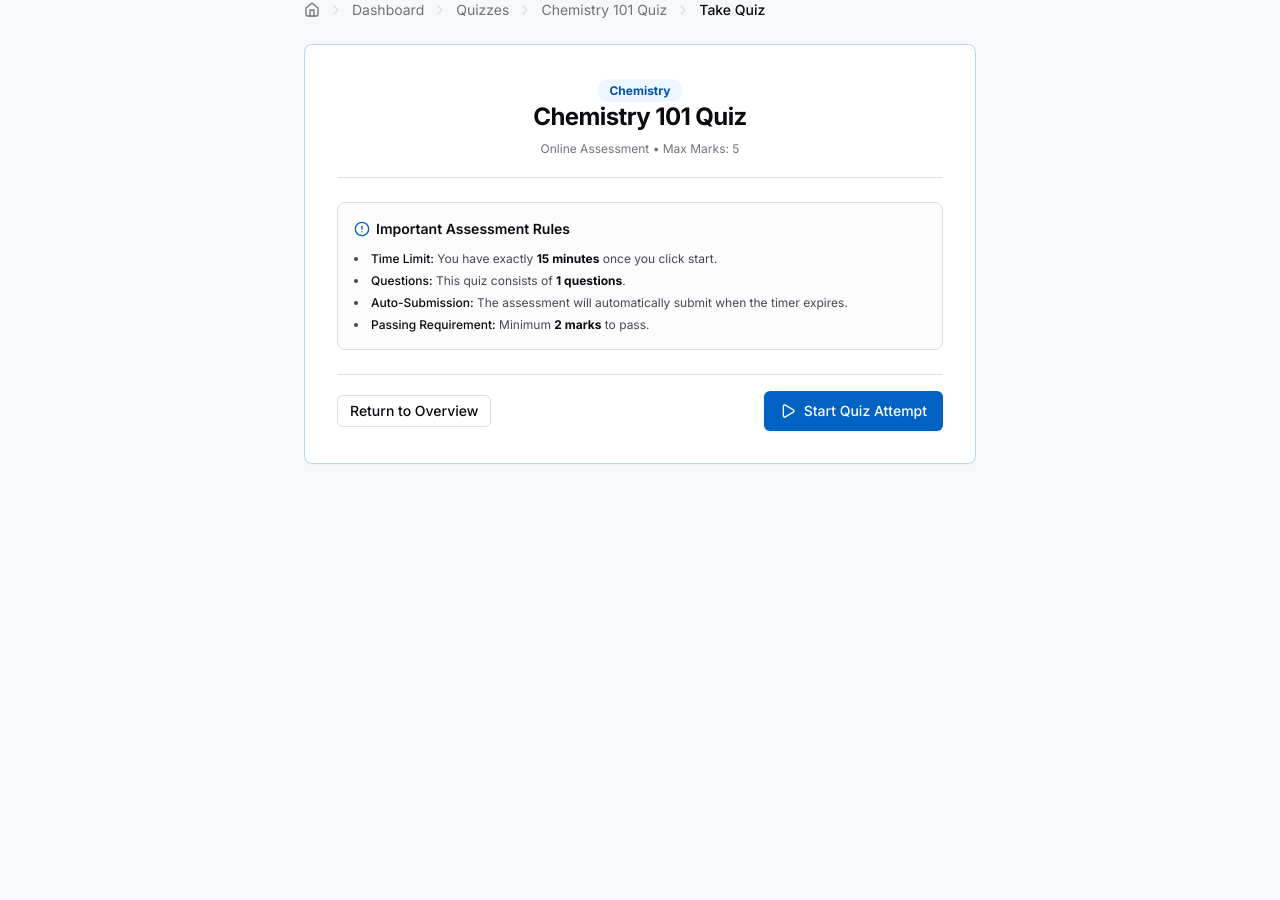
Scenario: TakeQuizPage › should flow through start attempt, answering question, and submitting quiz
This screenshot has width=1280, height=900.
Expected: the heading "Chemistry 101 Quiz" is shown, [533,102,747,131]
Click the button "Start Quiz Attempt" at {"x": 853, "y": 411}, box [764,391,943,431]
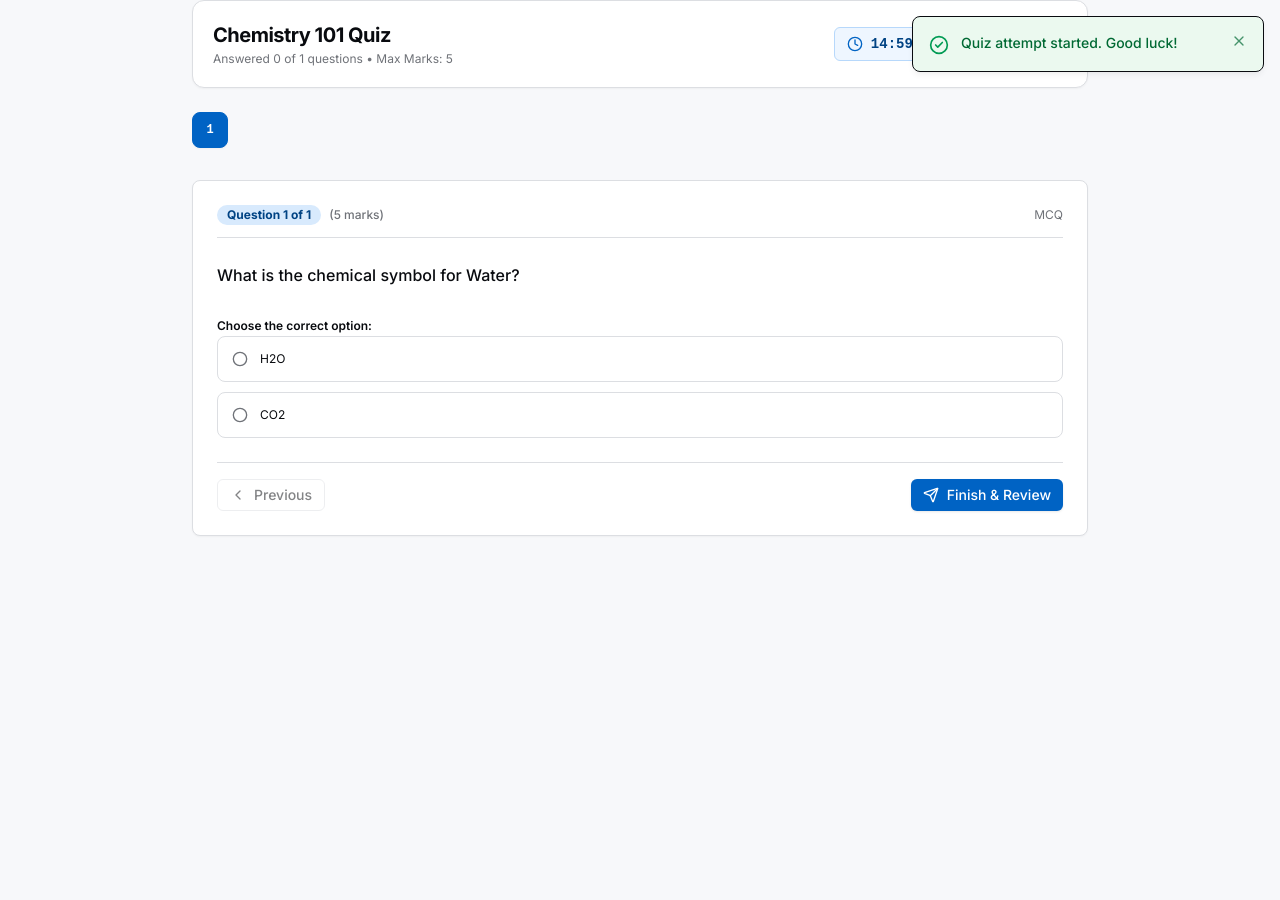
Expected: the text "What is the chemical symbol for Water?" is shown, [217,265,520,285]
Expected: the text "H2O" is shown, [260,351,285,366]
Note: Select Option H2O
Click the button "H2O" at {"x": 240, "y": 359}, box [217,336,1063,382]
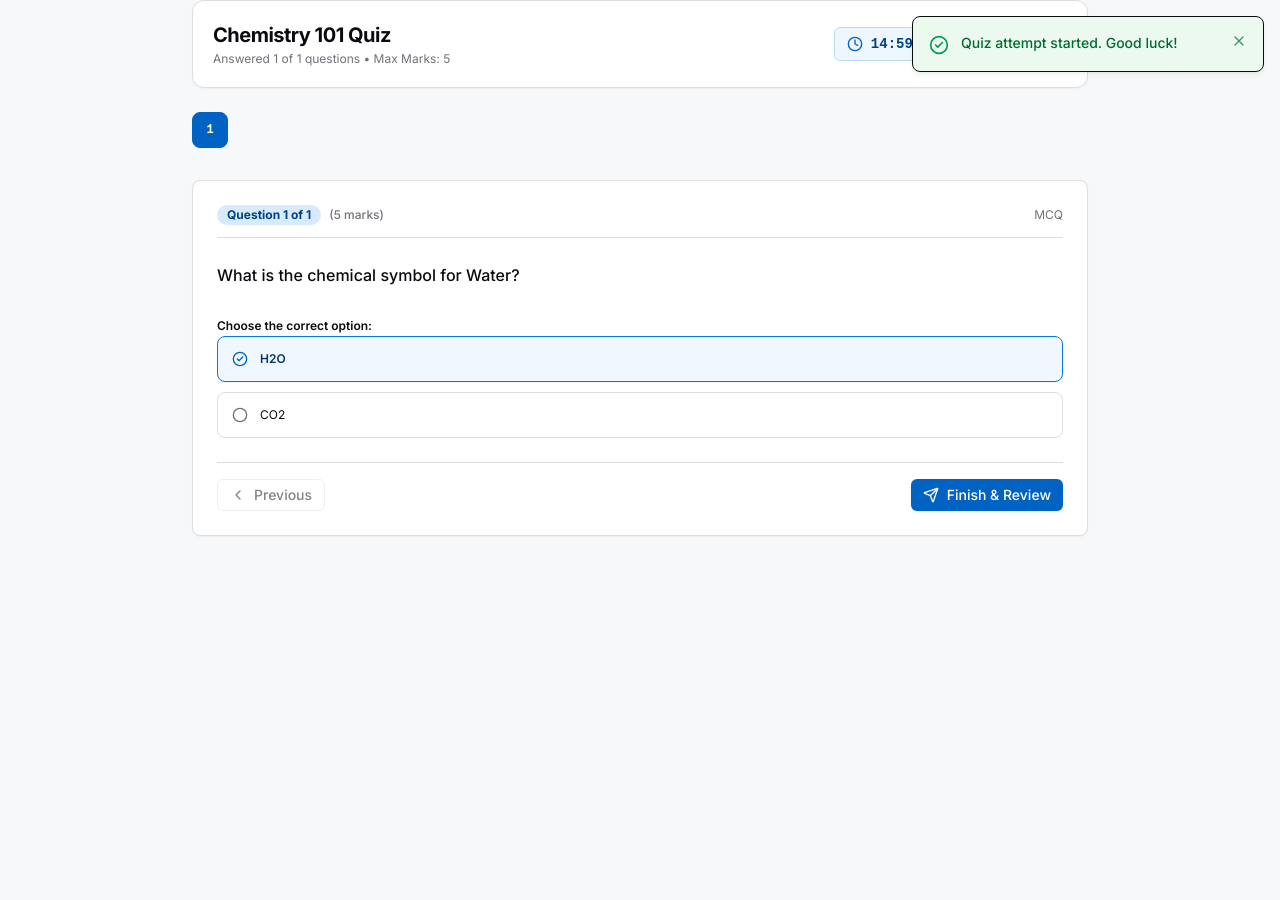
Note: Submit quiz
Click the button "Finish & Review" at {"x": 987, "y": 495}, box [911,479,1063,511]
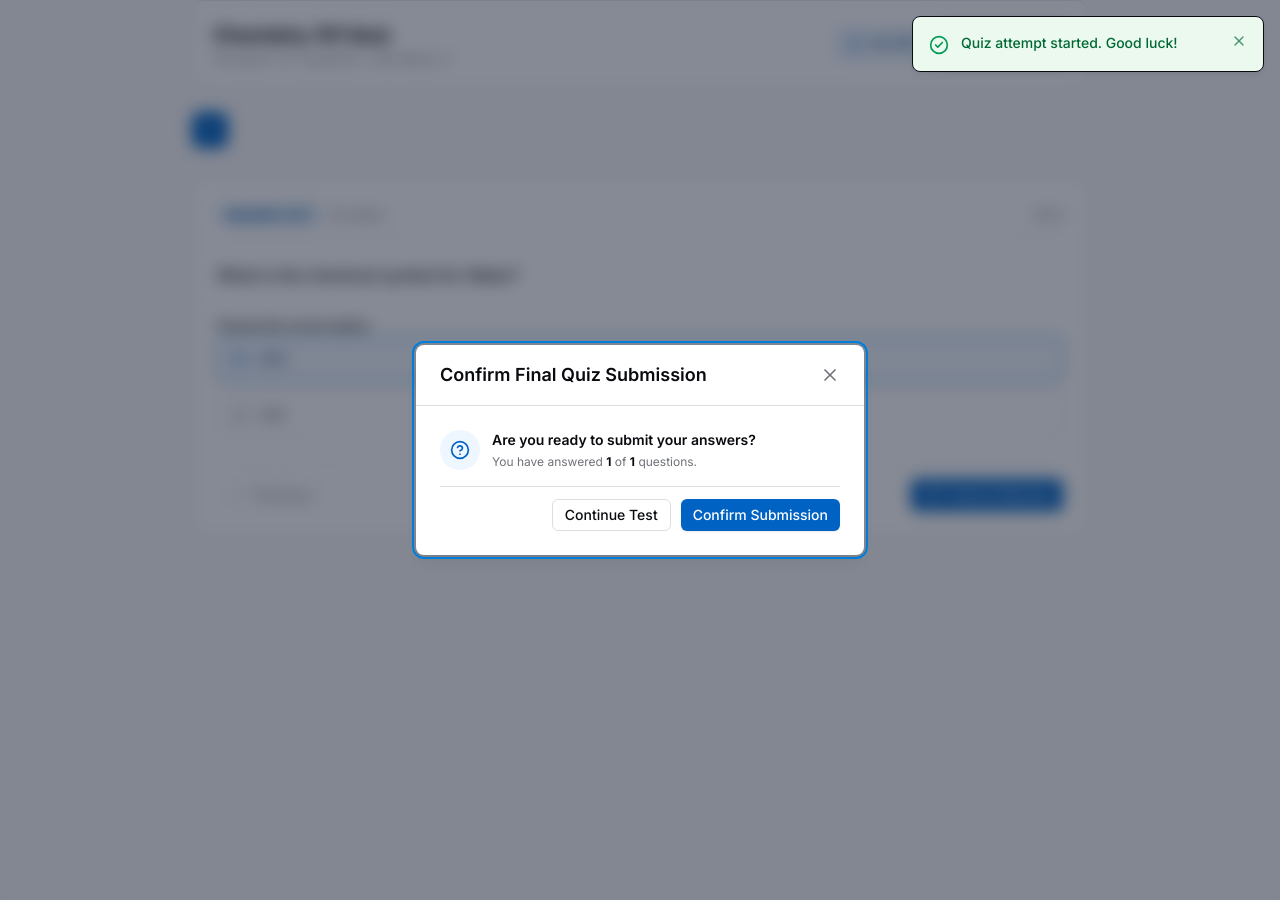
Click the button "Confirm Submission" at {"x": 760, "y": 515}, box [681,499,840,531]
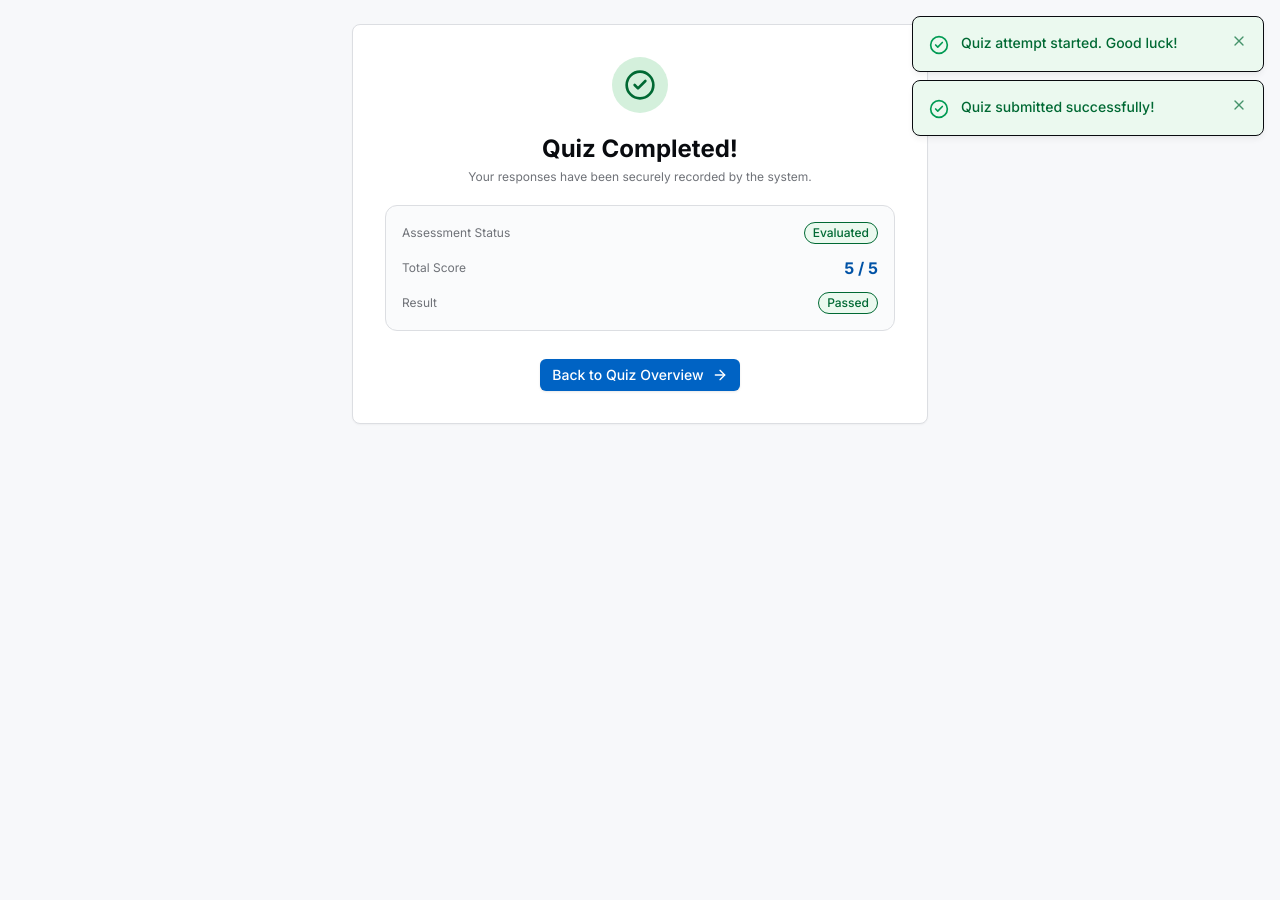
Expected: the heading "Quiz Completed!" is shown, [542,134,738,163]
Expected: the text "5 / 5" is shown, [844,256,878,280]
Expected: the text "Passed" is shown, [818,292,878,314]
